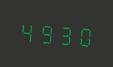four: (18, 17, 36, 45)
nine: (37, 18, 55, 46)
three: (56, 20, 74, 48)
zero: (75, 21, 93, 49)
